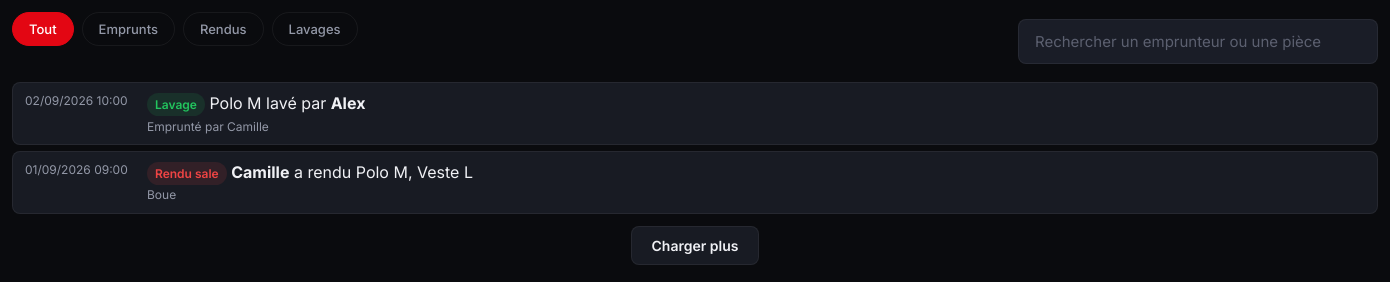
Test: UniformHistory › changement de filtre : l'ancienne liste est remplacée par le chargement, et « Charger plus » disparaît
This screenshot has width=1390, height=282.
expect the text "Rendu sale" is shown: met, box [147,162,227,185]
expect the button "Charger plus" is shown: met, box [630,226,760,265]
Step 1. Click the tab "Lavages" → [314, 29], box [272,12,358,46]
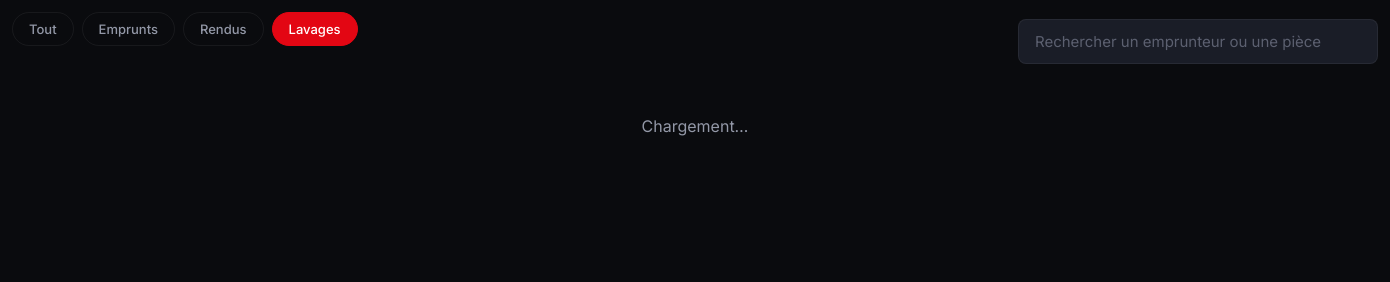
expect the text "Rendu sale" is gone: met
expect the button "Charger plus" is gone: met
expect the message "Chargement…" is shown: met, box [642,116,748,136]
